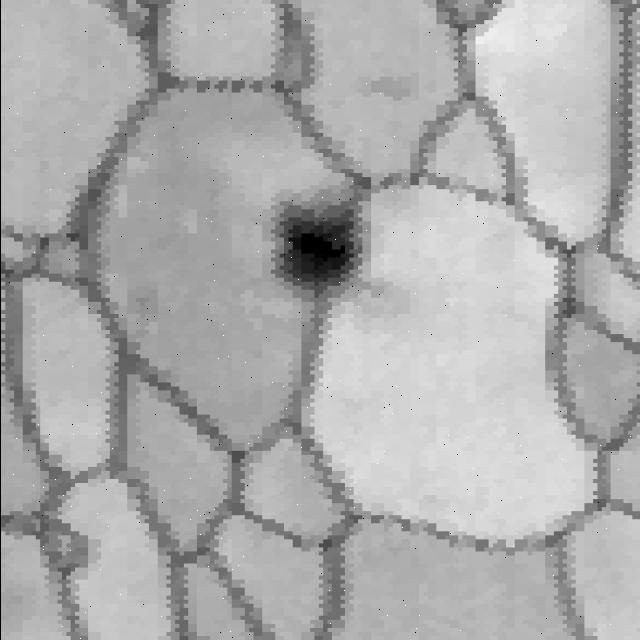good_void: (250, 186, 366, 315)
